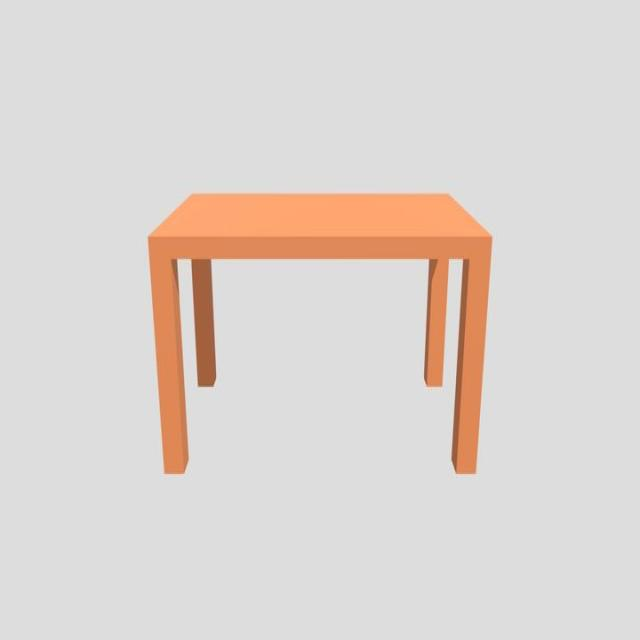table: (149, 190, 498, 478)
